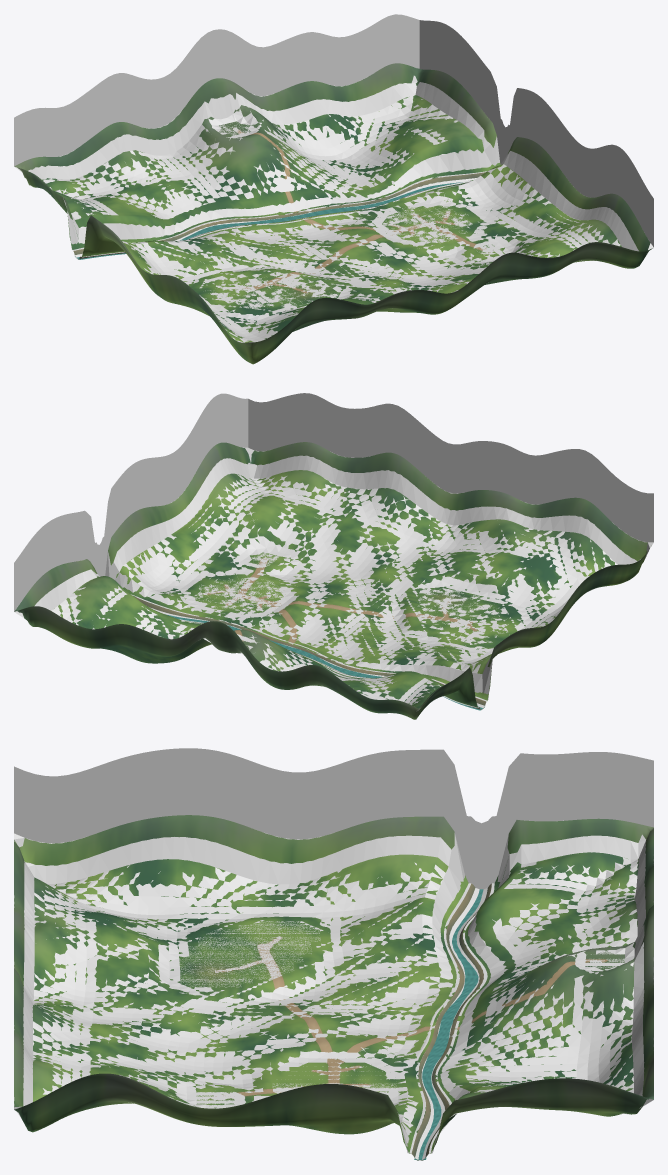
File: terrain.glb
3 views of the same model, one above another, from view 1: azimuth 30°, elevation 25°; view 2: azimuth 150°, elevation 25°; view 3: azimuth 270°, elevation 25° (orthographic). The views are drawn at different scales.
Visible parts, largest first — view 1: Ground-col, Ground, Creek, Road, Water; view 2: Ground-col, Ground, Road, Creek, Water; view 3: Ground-col, Ground, Road, Creek, Water.
Boxes of the visible parts, box(x1,y1,x2,y2) form: Ground-col: box(14, 14, 653, 342); Ground: box(14, 63, 652, 364); Creek: box(73, 172, 485, 259); Road: box(233, 128, 490, 293); Water: box(76, 182, 462, 259); Ground-col: box(14, 393, 653, 713); Ground: box(14, 442, 647, 719); Road: box(203, 558, 477, 642); Creek: box(134, 596, 486, 709); Water: box(165, 614, 484, 710); Ground-col: box(14, 748, 653, 1160); Ground: box(14, 815, 653, 1153); Road: box(215, 937, 607, 1100); Creek: box(411, 883, 491, 1160); Water: box(414, 889, 483, 1159).
Bounding box in the file's own units: 260 × 83.28 × 260.
